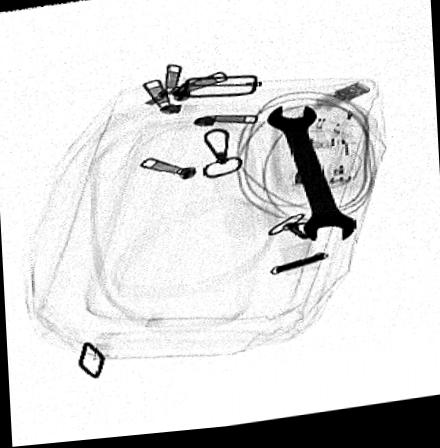Wrench: (262, 106, 357, 254)
